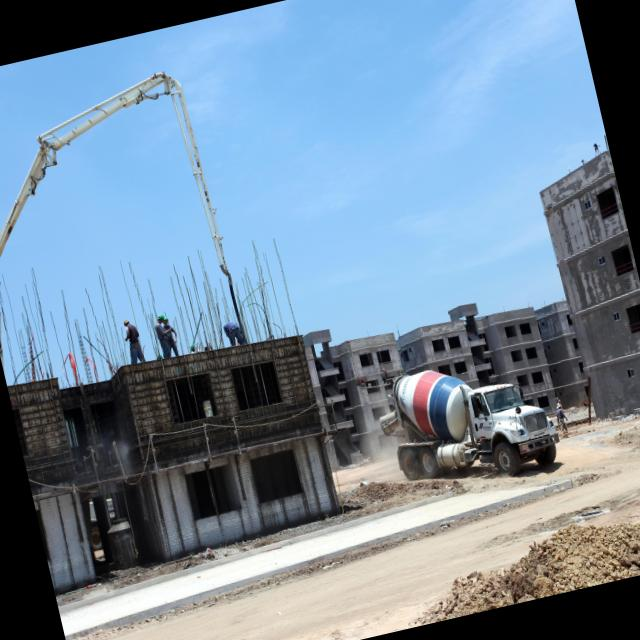cement: (58, 478, 572, 639)
white-sand: (69, 418, 640, 640)
